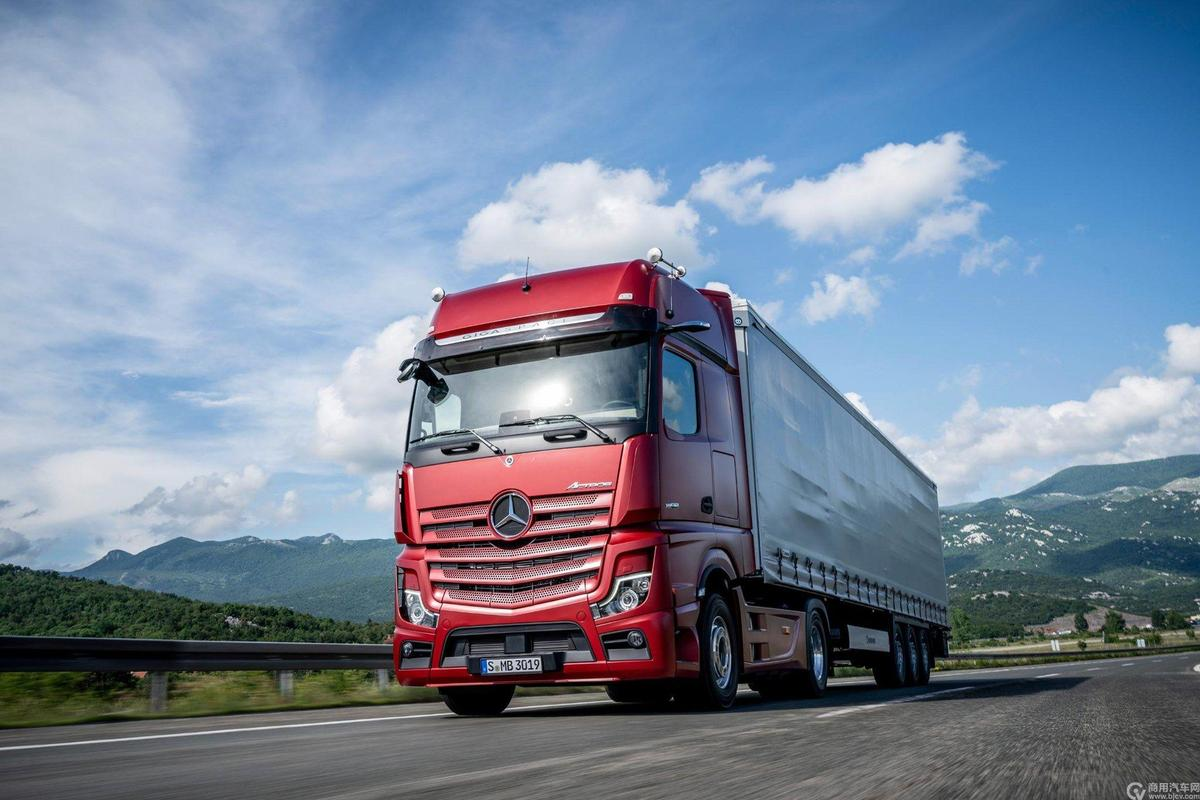卡车: (372, 256, 968, 714)
